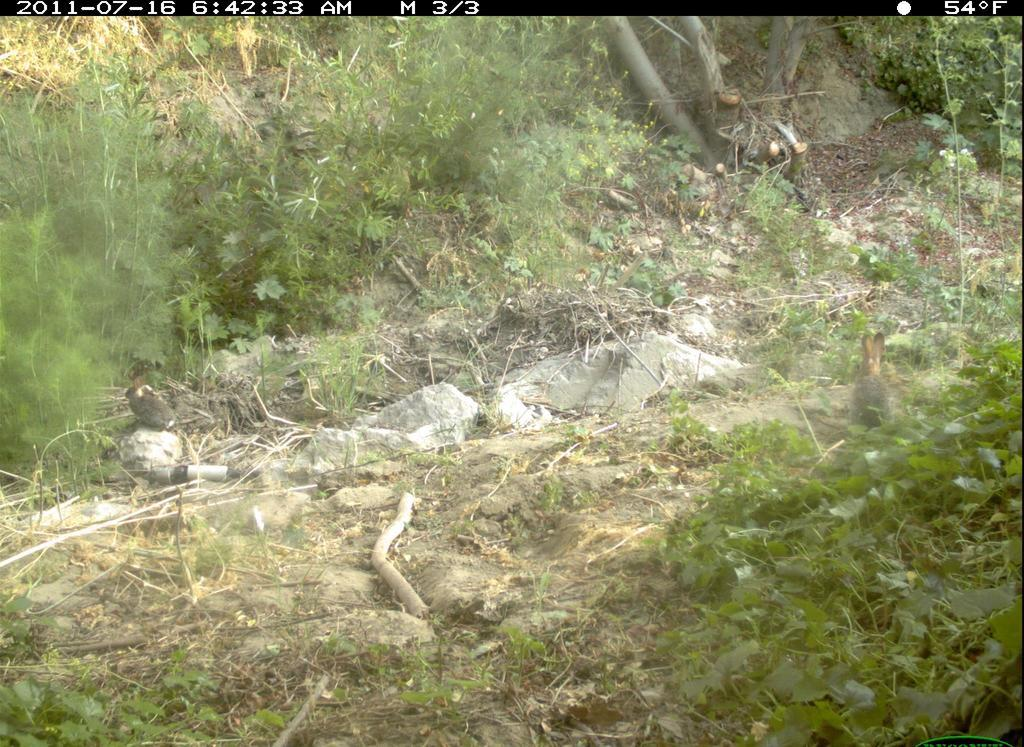rabbit: (845, 326, 900, 440), (120, 363, 190, 438)
